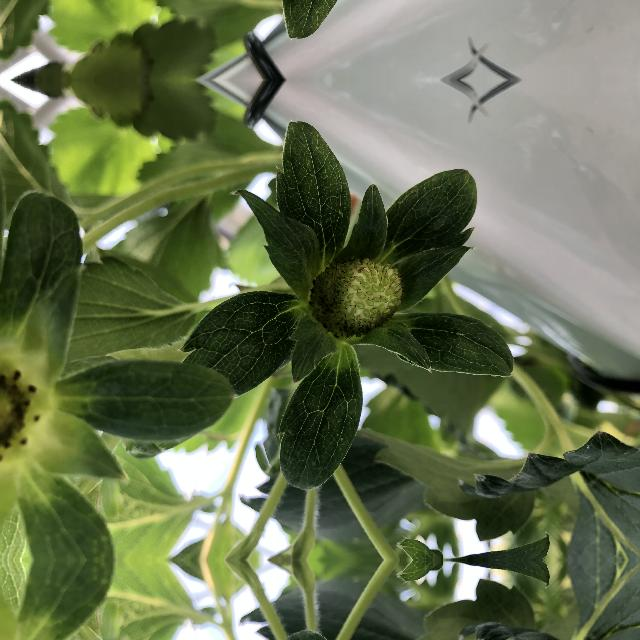Health_25: (306, 243, 402, 343)
